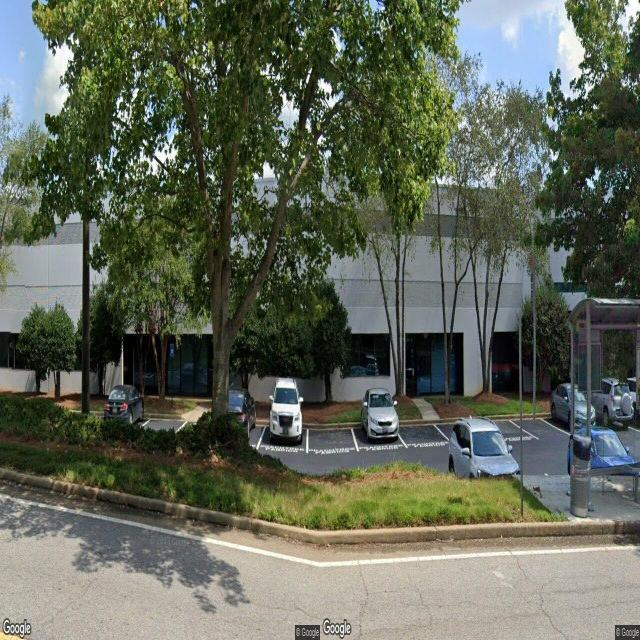seating: (628, 463, 640, 503)
shelter: (563, 294, 640, 509)
trash_can: (569, 434, 592, 516)
